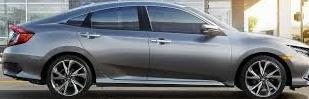Cars: (4, 4, 309, 99)
